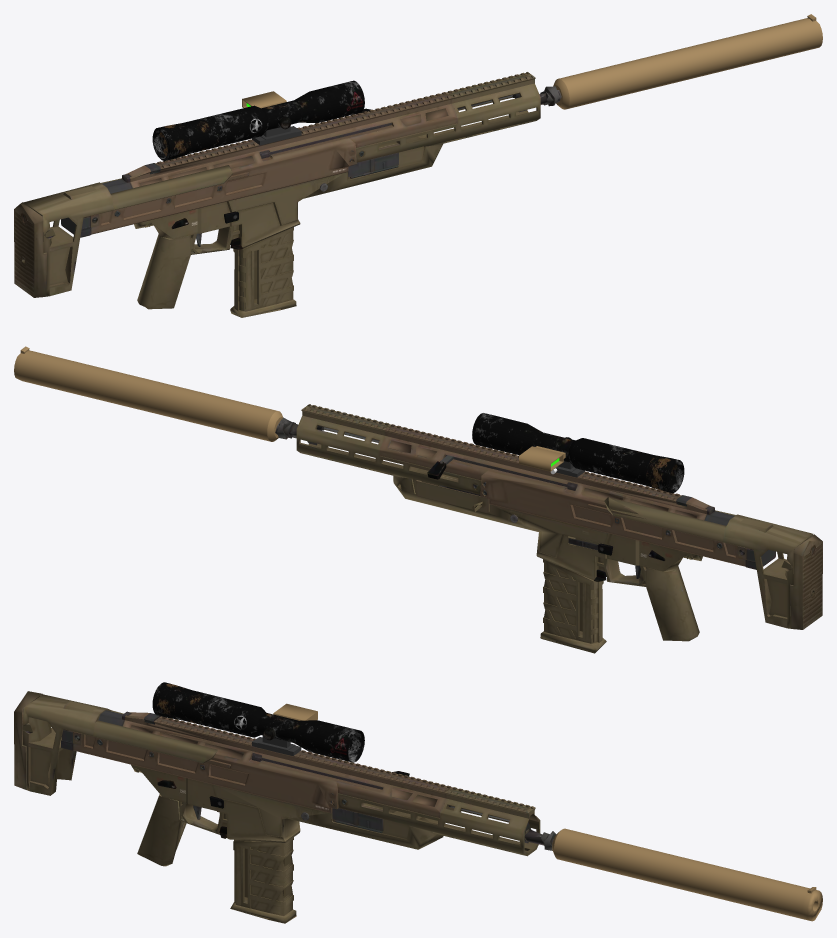
The model's file is rifle_swat.glb.
3 renders of one model, top to bottom at view 1: azimuth 30°, elevation 25°; view 2: azimuth 150°, elevation 25°; view 3: azimuth 330°, elevation 25°, orthographic.
Visible parts, largest first — view 1: textron_ngsw_textron_ngsw_01_0_textron_ngsw_01_0, textron_ngsw_textron_ngsw_02_0_textron_ngsw_02_0, pCylinder2_phong4_0, polySurface8_aiStandardSurface1_0; view 2: textron_ngsw_textron_ngsw_01_0_textron_ngsw_01_0, textron_ngsw_textron_ngsw_02_0_textron_ngsw_02_0, pCylinder2_phong4_0, polySurface8_aiStandardSurface1_0; view 3: textron_ngsw_textron_ngsw_01_0_textron_ngsw_01_0, textron_ngsw_textron_ngsw_02_0_textron_ngsw_02_0, pCylinder2_phong4_0, polySurface8_aiStandardSurface1_0, polySurface8_phong5_0.
Boxes of the visible parts, x1,y1,x2,y2 form: textron_ngsw_textron_ngsw_01_0_textron_ngsw_01_0: [14, 72, 540, 297]; textron_ngsw_textron_ngsw_02_0_textron_ngsw_02_0: [134, 86, 561, 317]; pCylinder2_phong4_0: [242, 14, 822, 109]; polySurface8_aiStandardSurface1_0: [152, 80, 364, 160]; textron_ngsw_textron_ngsw_01_0_textron_ngsw_01_0: [296, 404, 822, 629]; textron_ngsw_textron_ngsw_02_0_textron_ngsw_02_0: [275, 417, 702, 653]; pCylinder2_phong4_0: [14, 346, 565, 471]; polySurface8_aiStandardSurface1_0: [472, 413, 684, 493]; textron_ngsw_textron_ngsw_01_0_textron_ngsw_01_0: [14, 691, 540, 856]; textron_ngsw_textron_ngsw_02_0_textron_ngsw_02_0: [131, 753, 556, 923]; pCylinder2_phong4_0: [273, 703, 822, 921]; polySurface8_aiStandardSurface1_0: [152, 682, 364, 762]; polySurface8_phong5_0: [252, 735, 301, 756].
Bounding box in the file's own units: 0.4151 × 0.1039 × 0.0305.
8 materials, 3 textured.
